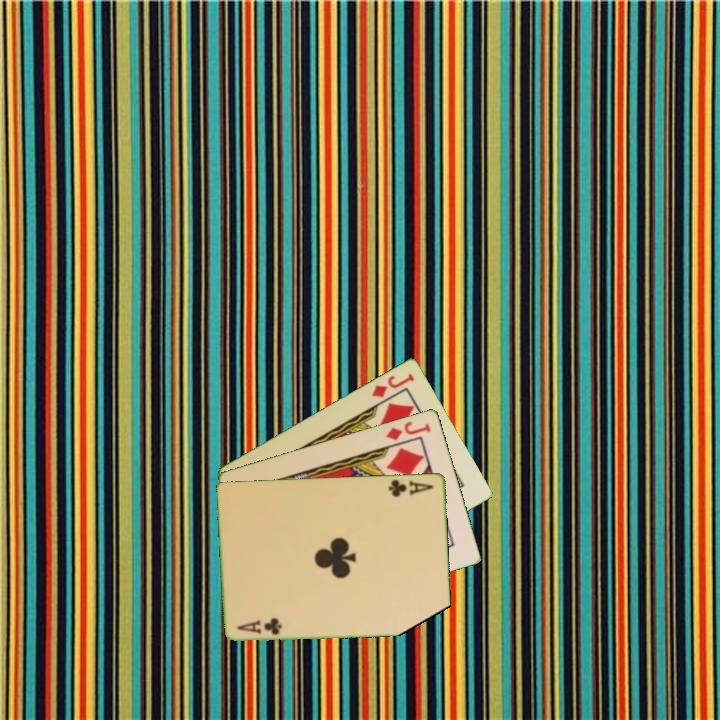Ac: (234, 614, 285, 638), (385, 476, 436, 499)
Jd: (368, 369, 417, 400), (382, 417, 434, 443)
